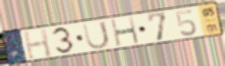3: (51, 26, 76, 56)
5: (174, 8, 198, 38)
7: (145, 10, 169, 42)
H: (109, 15, 141, 48), (22, 28, 54, 61)
U: (81, 20, 112, 51)
